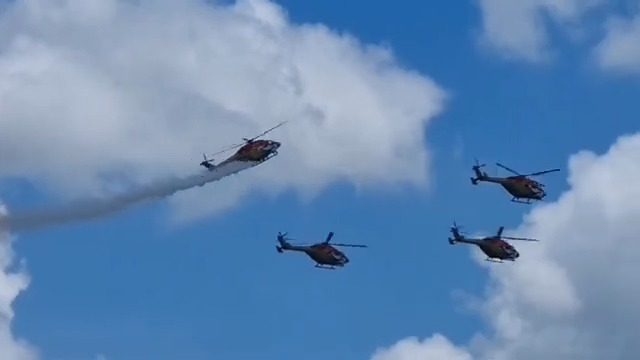helicopter: (468, 150, 565, 209), (265, 229, 372, 274), (205, 123, 286, 175), (445, 216, 532, 262)
